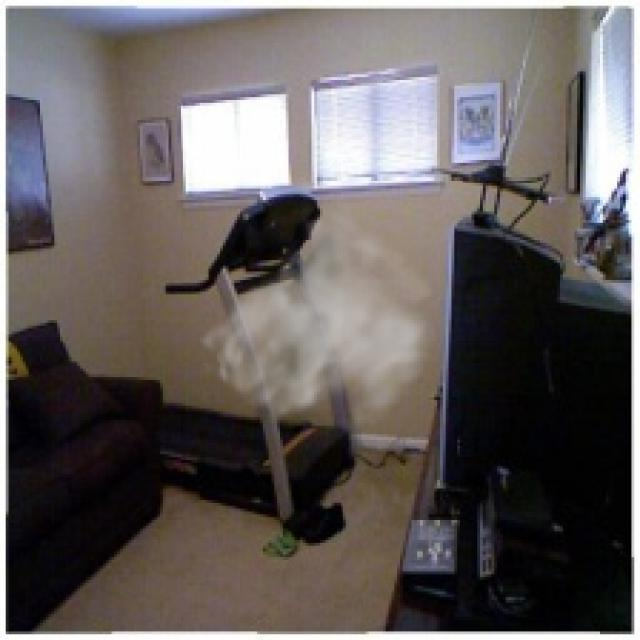Smoke: (197, 191, 440, 443)
